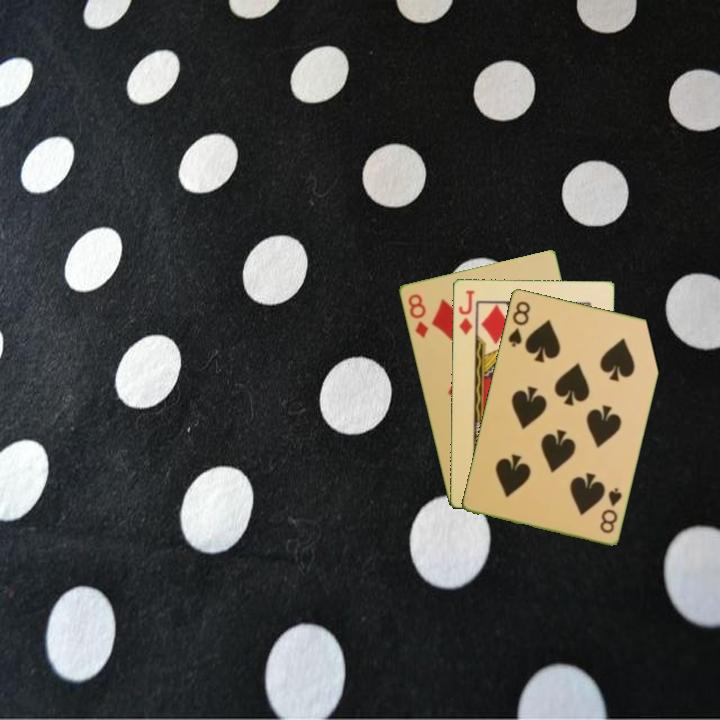8d: (404, 290, 431, 341)
8s: (504, 297, 533, 350), (596, 484, 625, 536)
Jd: (455, 286, 477, 337)
